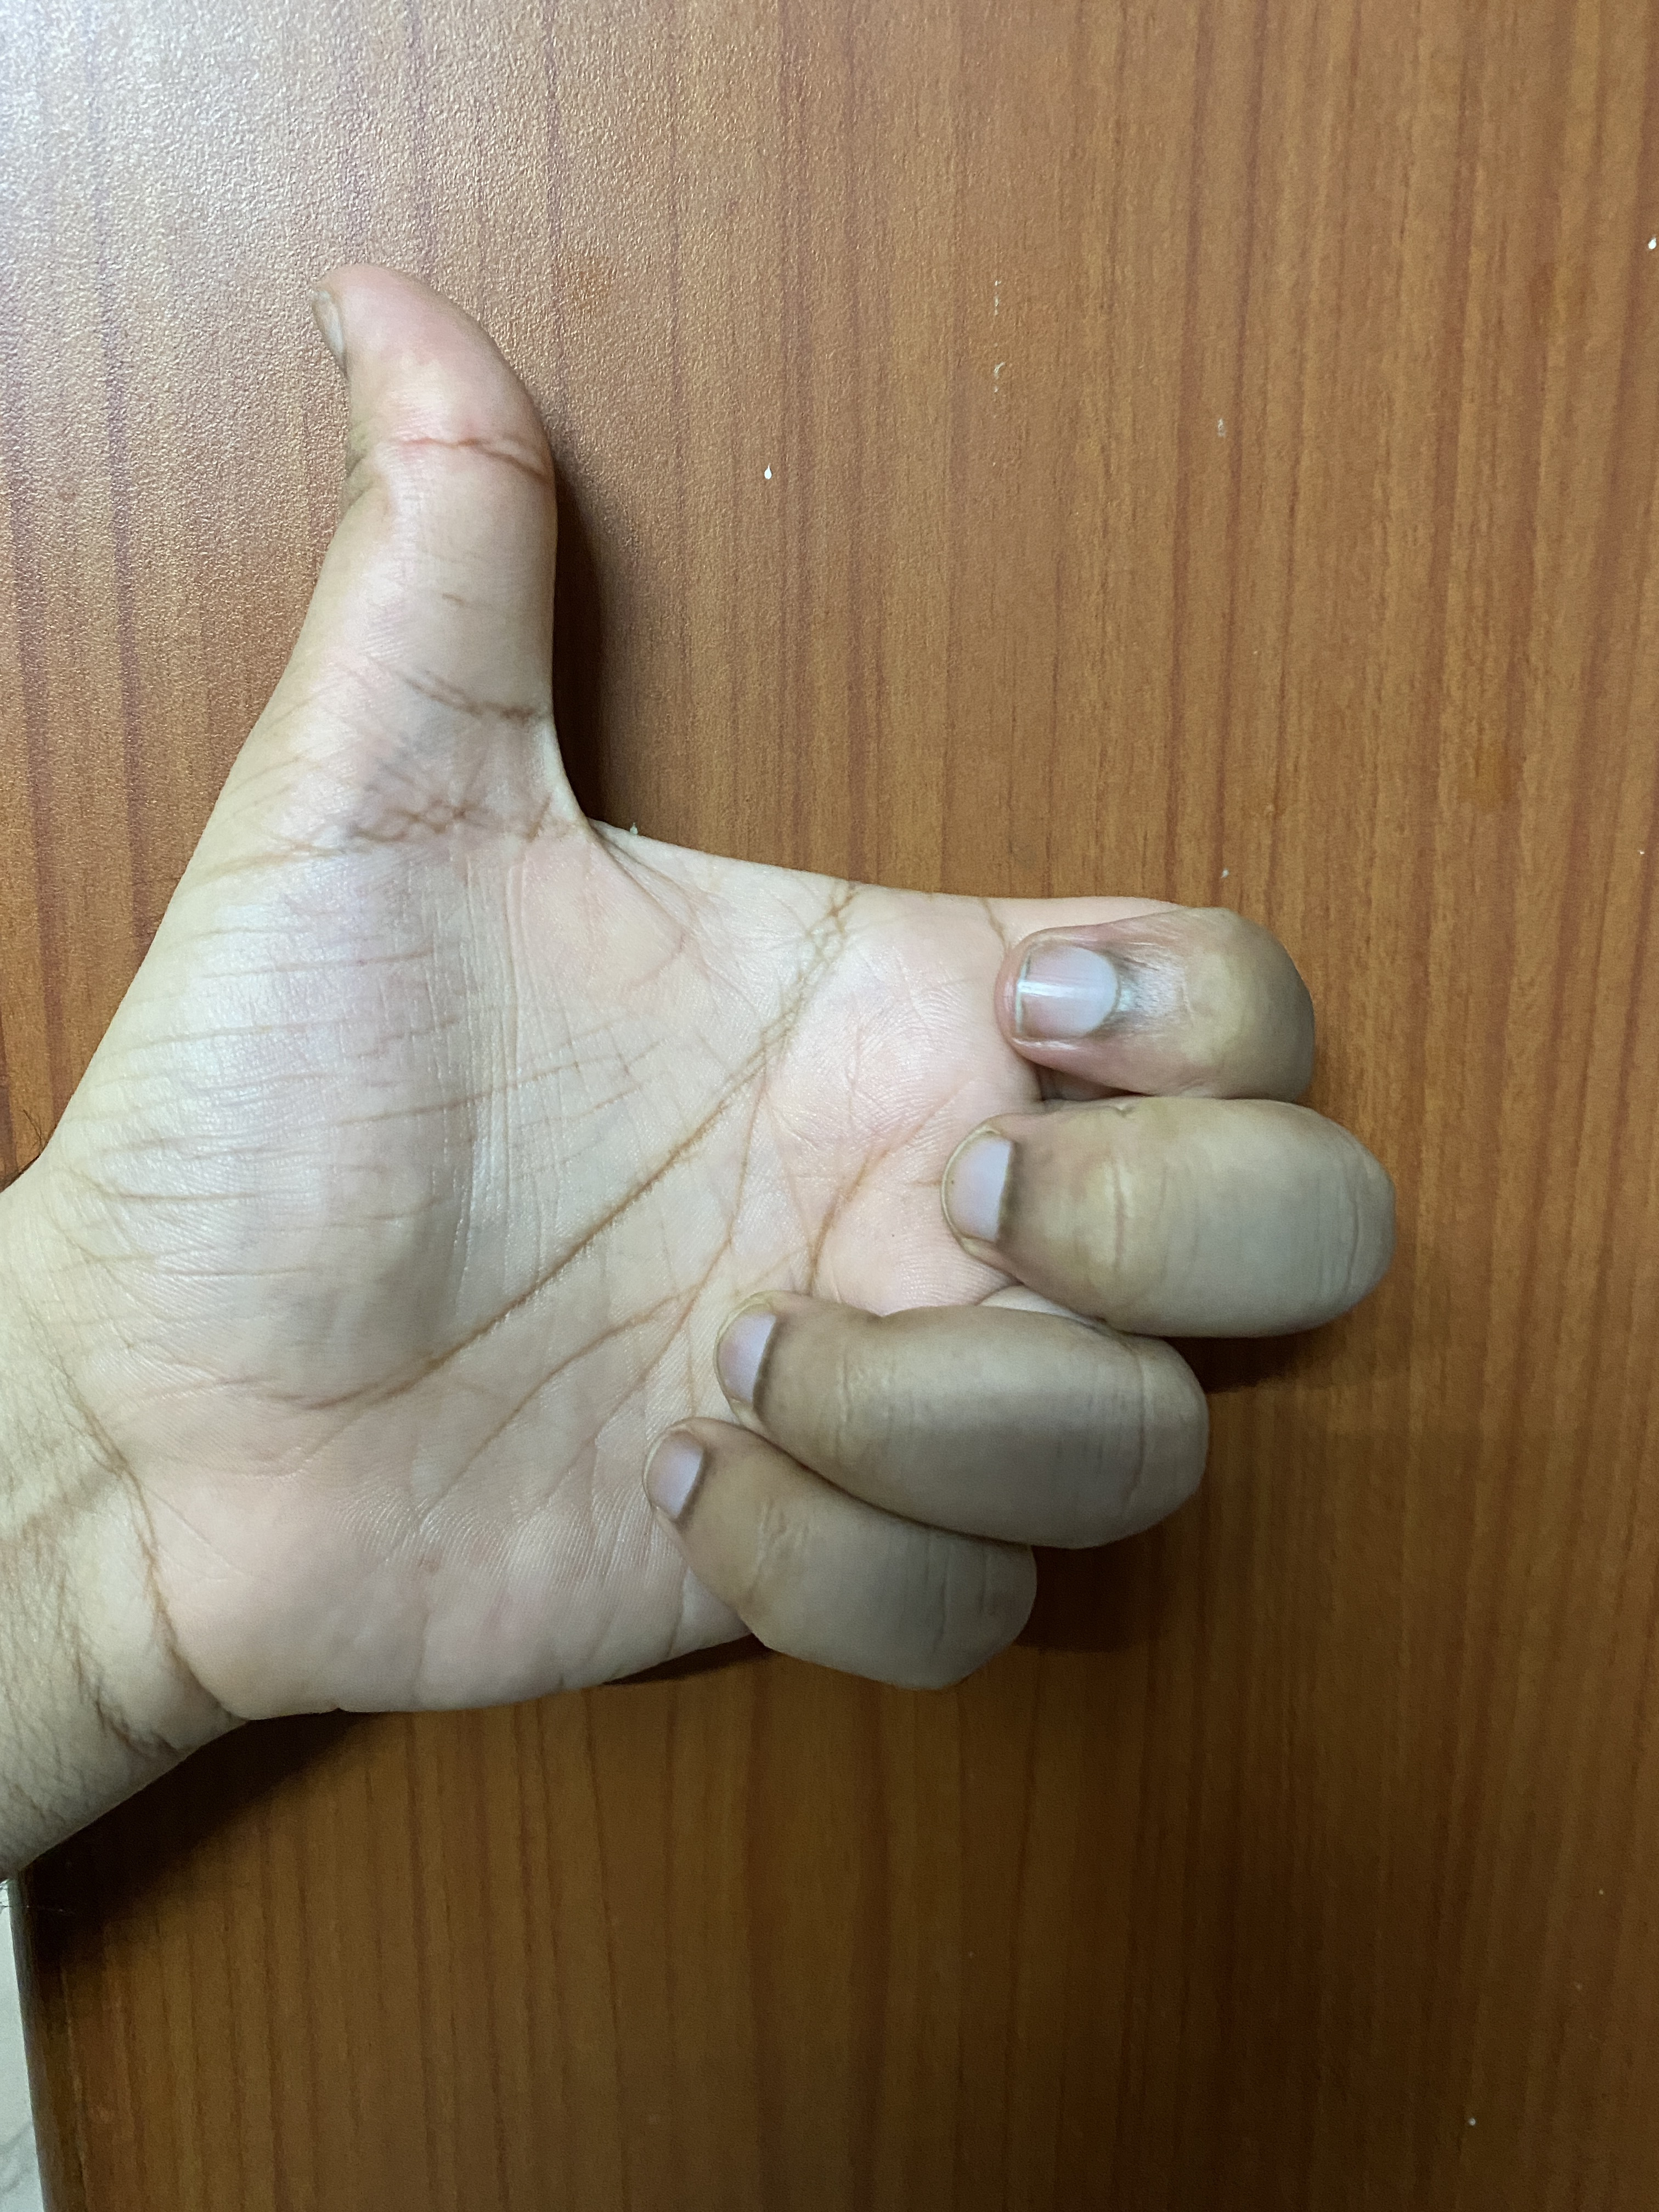up: (28, 199, 1582, 1858)
